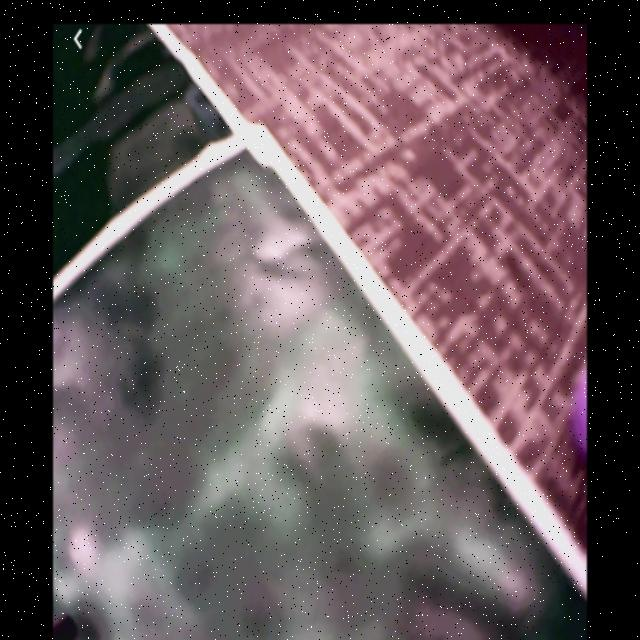ball: (570, 371, 588, 459)
